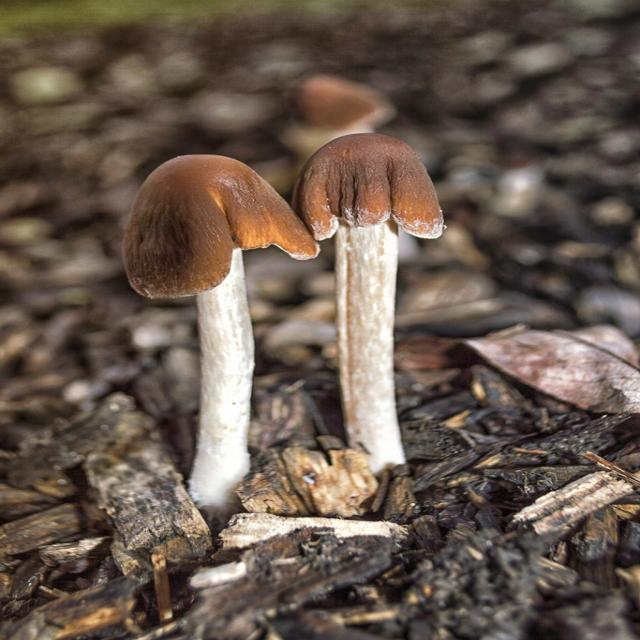Mushroom: (123, 156, 318, 518), (291, 133, 447, 476), (283, 74, 395, 144)
